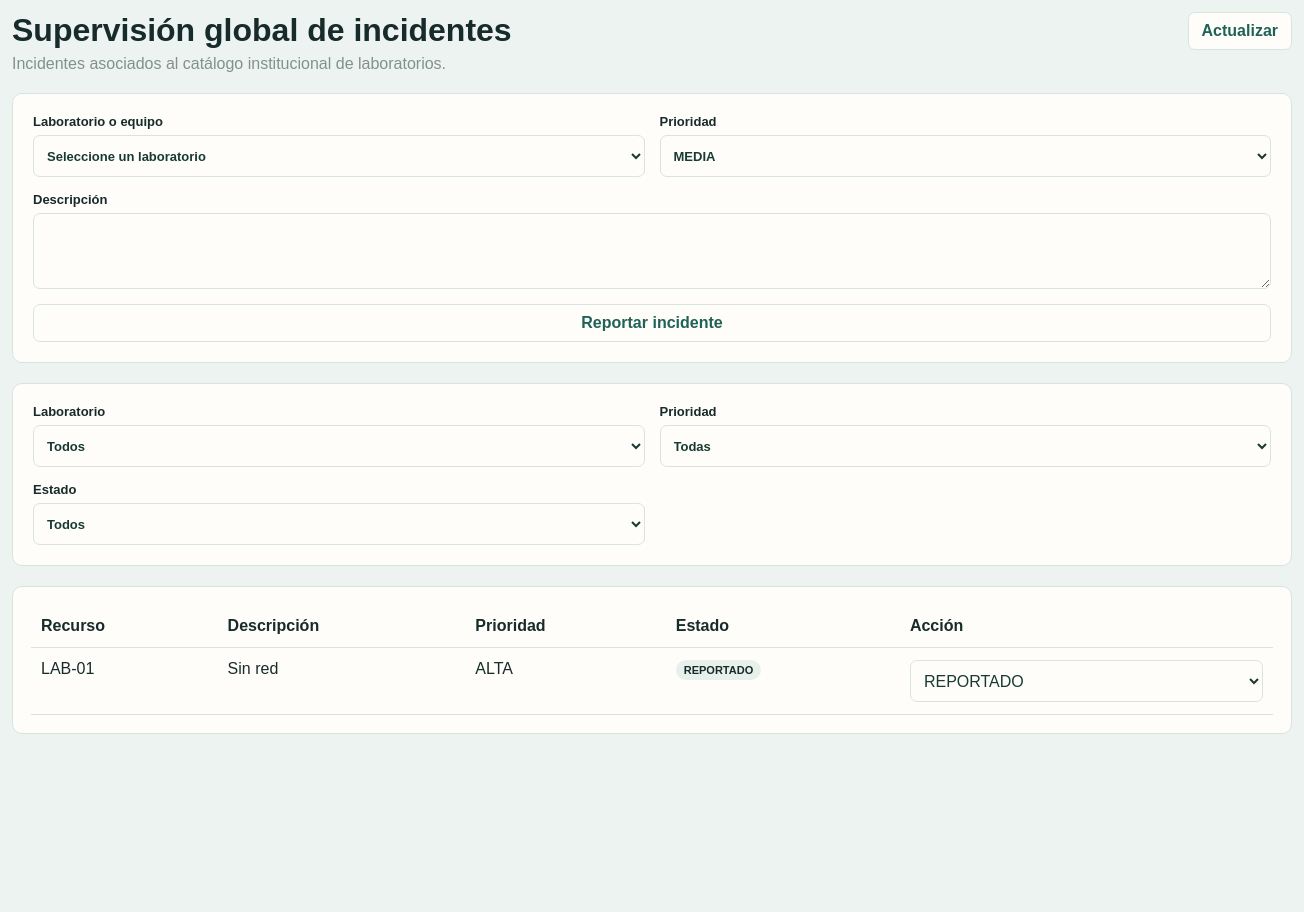
IncidentesPage institucional › usa laboratorio institucional y permite filtros globales para gestor
The width and height of the screenshot is (1304, 912).
Check: the text "Sin red" is shown, box [218,648,465,714]
Check: the dropdown labelled "Estado" is shown, box [33,503,644,545]
# Cambiar estado como gestor
Select "EN_REVISION" in the dropdown named "Estado de LAB-01": [1086, 681] box [910,660,1263,702]
Select "LAB-01 — Laboratorio de Redes" in the dropdown labelled "Laboratorio": [339, 446] box [33,425,644,467]
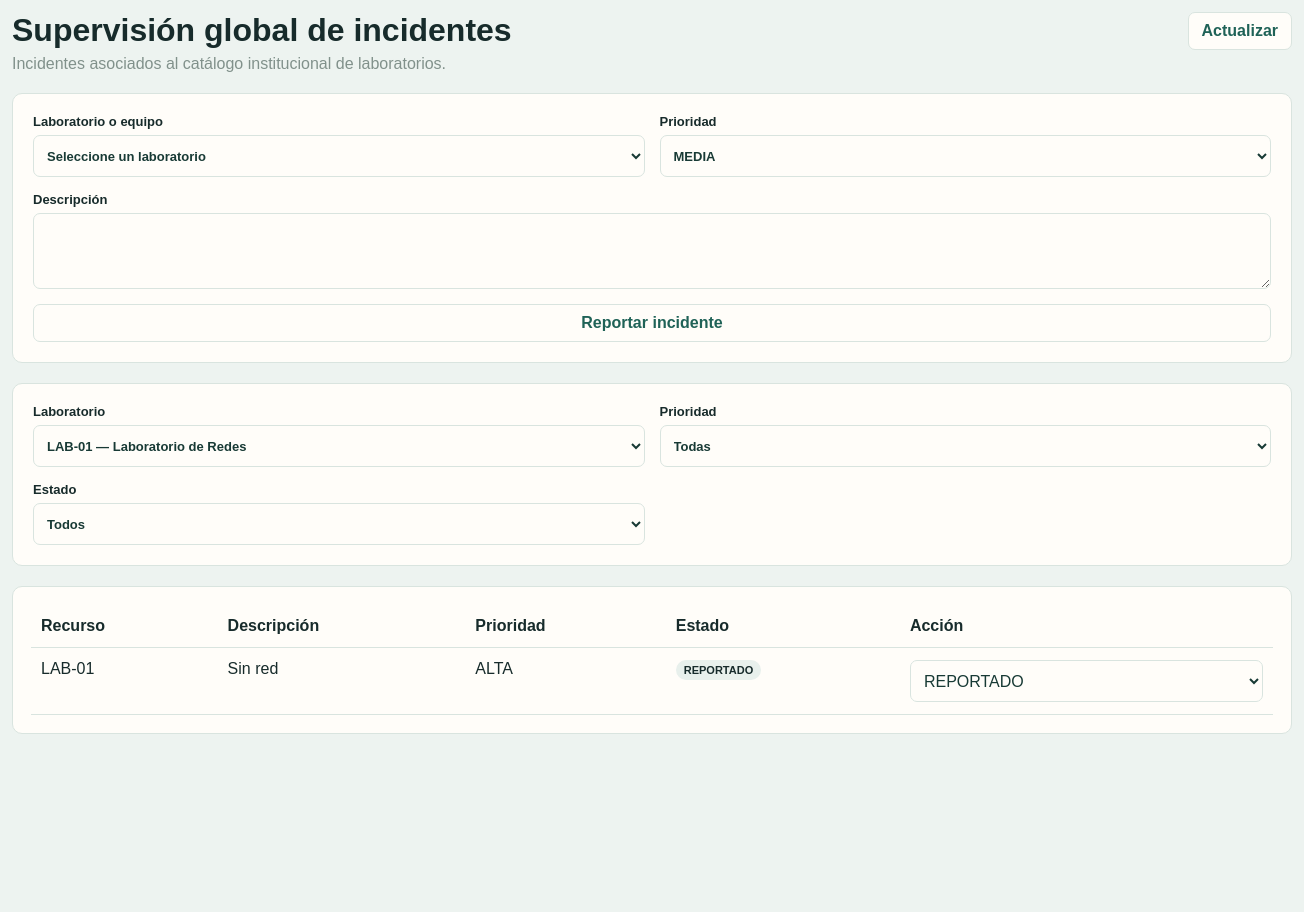
Select "ALTA" in the 2nd dropdown labelled "Prioridad": [965, 446] box [660,425,1271,467]
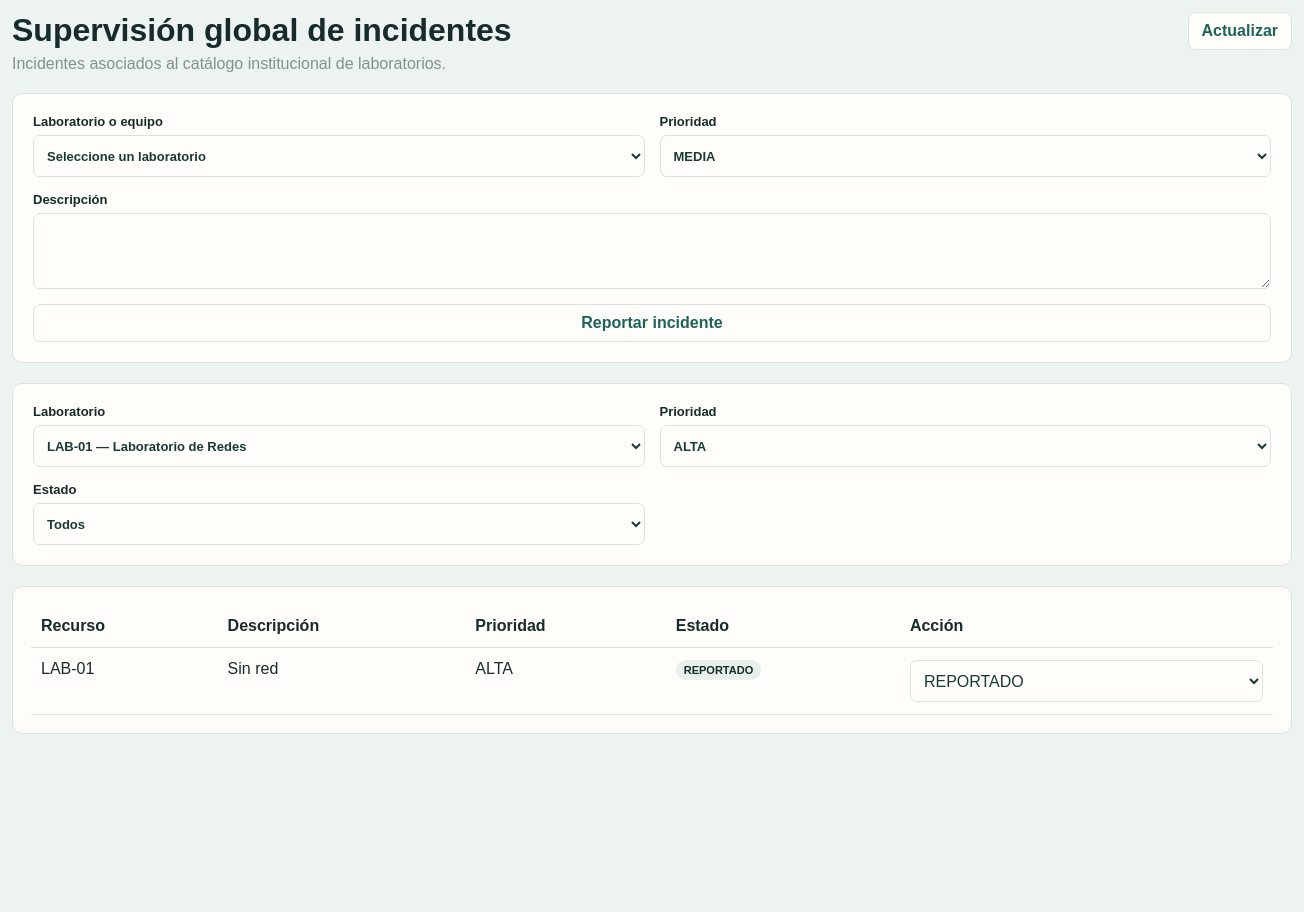
Select "REPORTADO" in the dropdown labelled "Estado": [339, 524] box [33,503,644,545]
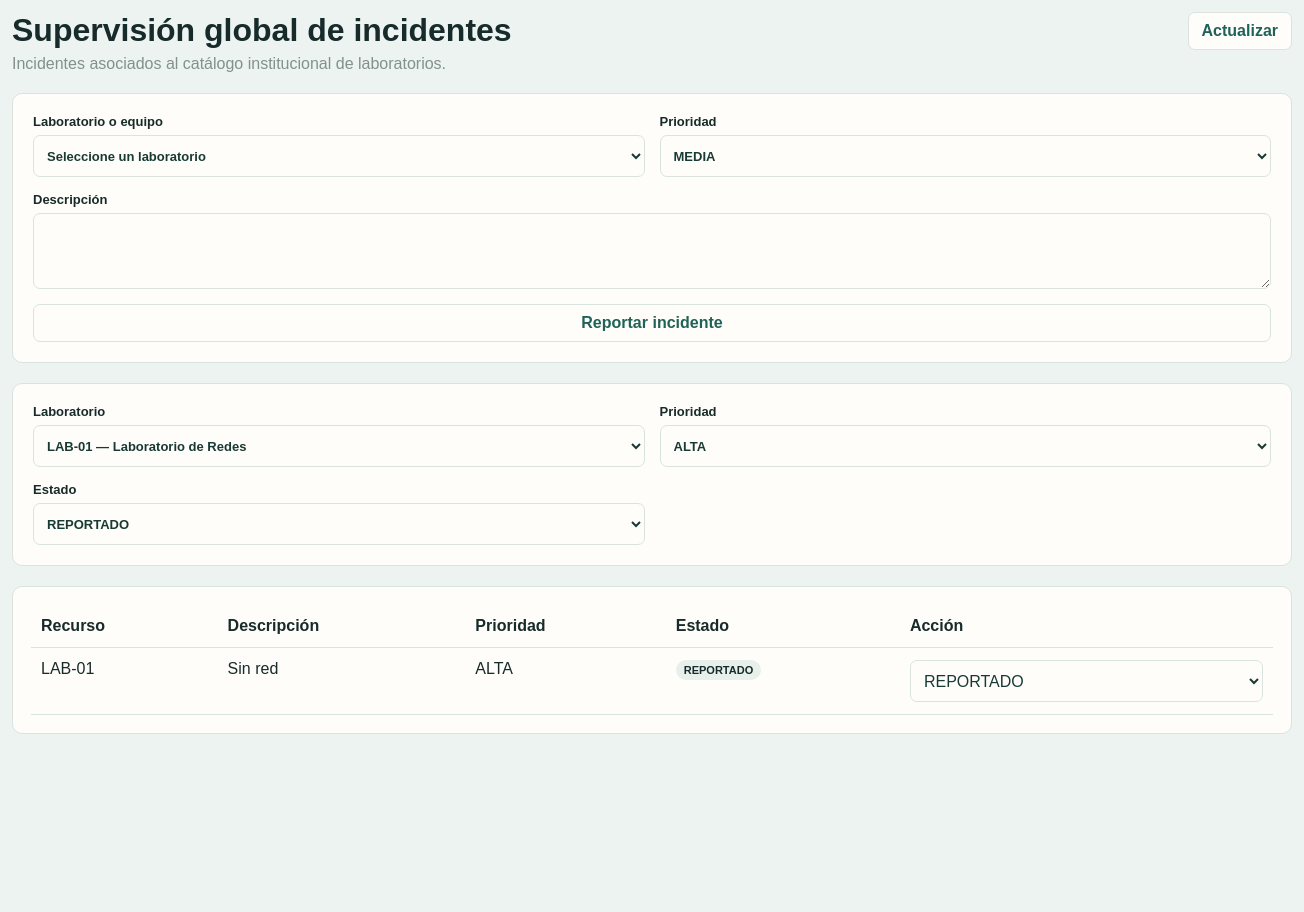
Check: the text "Sin red" is shown, box [218,648,465,714]
Select "BAJA" in the 2nd dropdown labelled "Prioridad": [965, 446] box [660,425,1271,467]
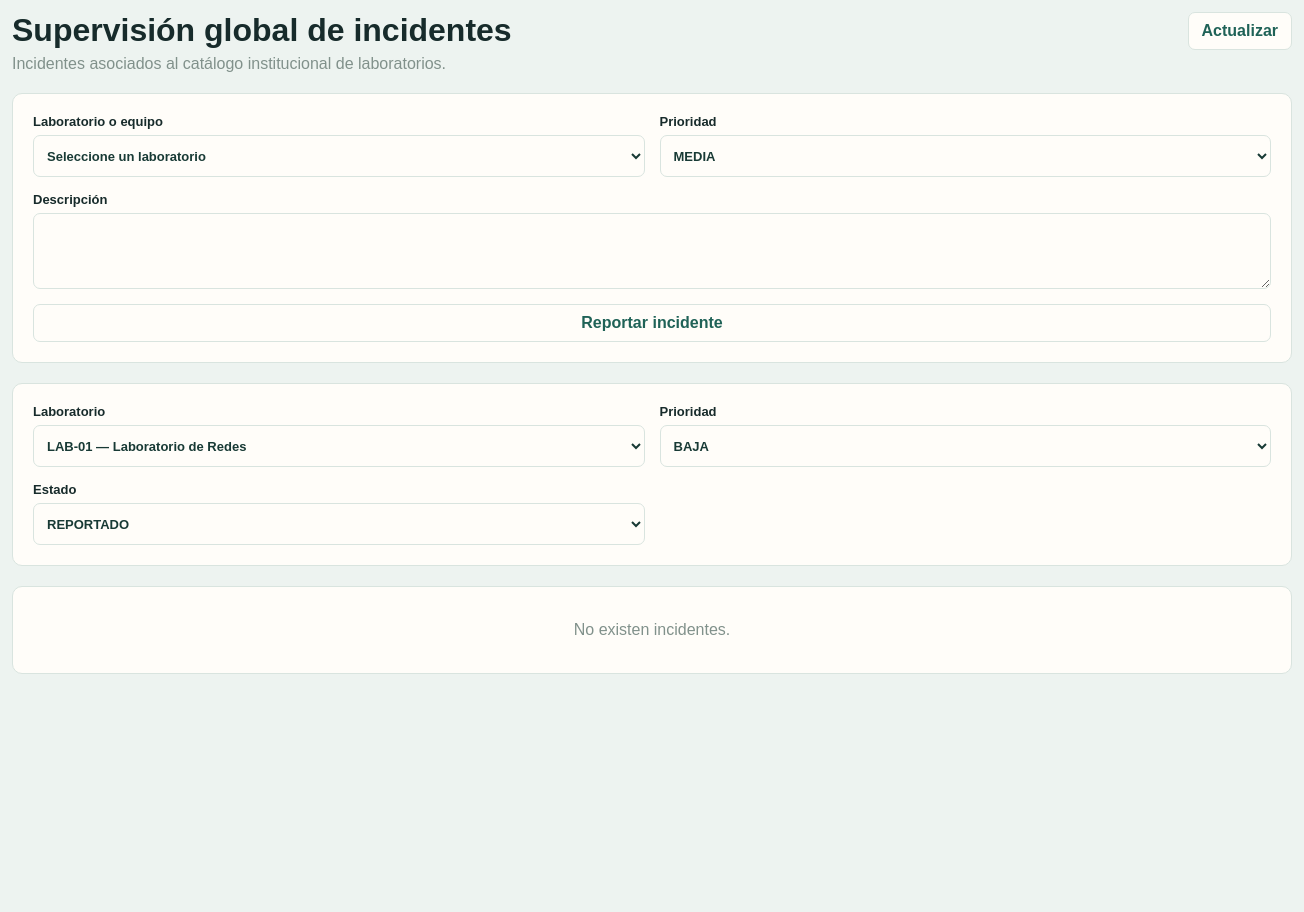
Check: the text "No existen incidentes." is shown, box [574,621,730,638]
